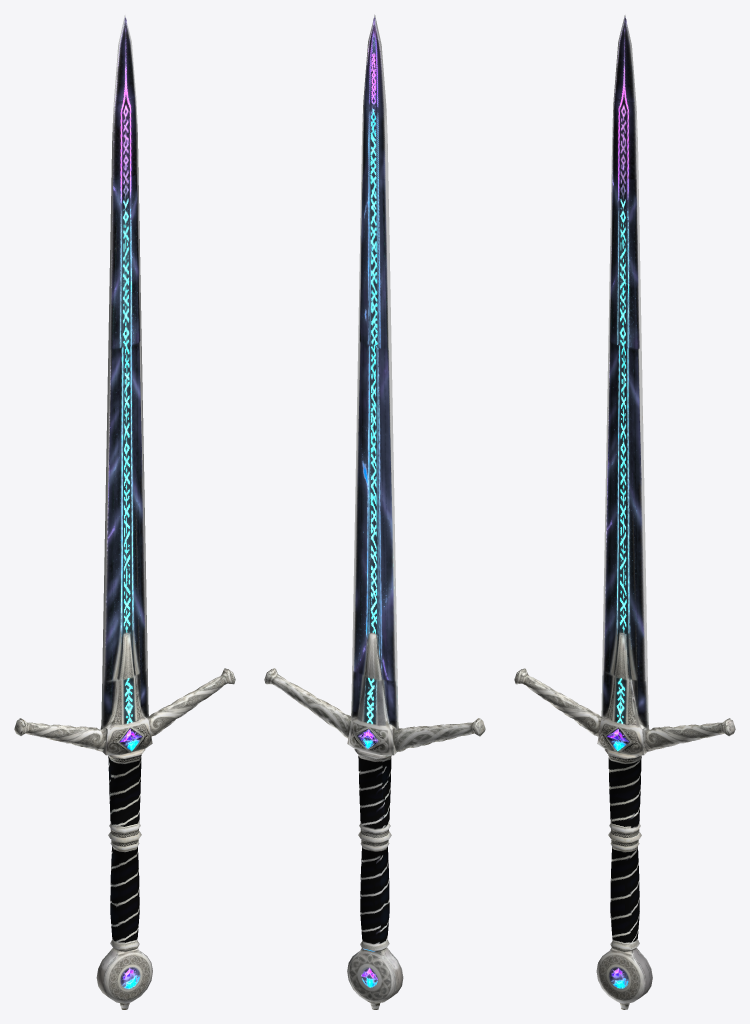
The model's file is w_claymore_t4.glb.
The picture shows the model from 3 angles, left to right: view 1: azimuth 30°, elevation 25°; view 2: azimuth 150°, elevation 25°; view 3: azimuth 330°, elevation 25°; orthographic projection.
Parts seen in each view (by area): view 1: Claymore:0; view 2: Claymore:0; view 3: Claymore:0.
Boxes of the visible parts, x1,y1,x2,y2 form: Claymore:0: (14,15,235,1009); Claymore:0: (264,14,485,1009); Claymore:0: (514,15,735,1009).
Bounding box in the file's own units: 21.98 × 96.26 × 2.81.
Materials: 1 (1 with a texture image).
